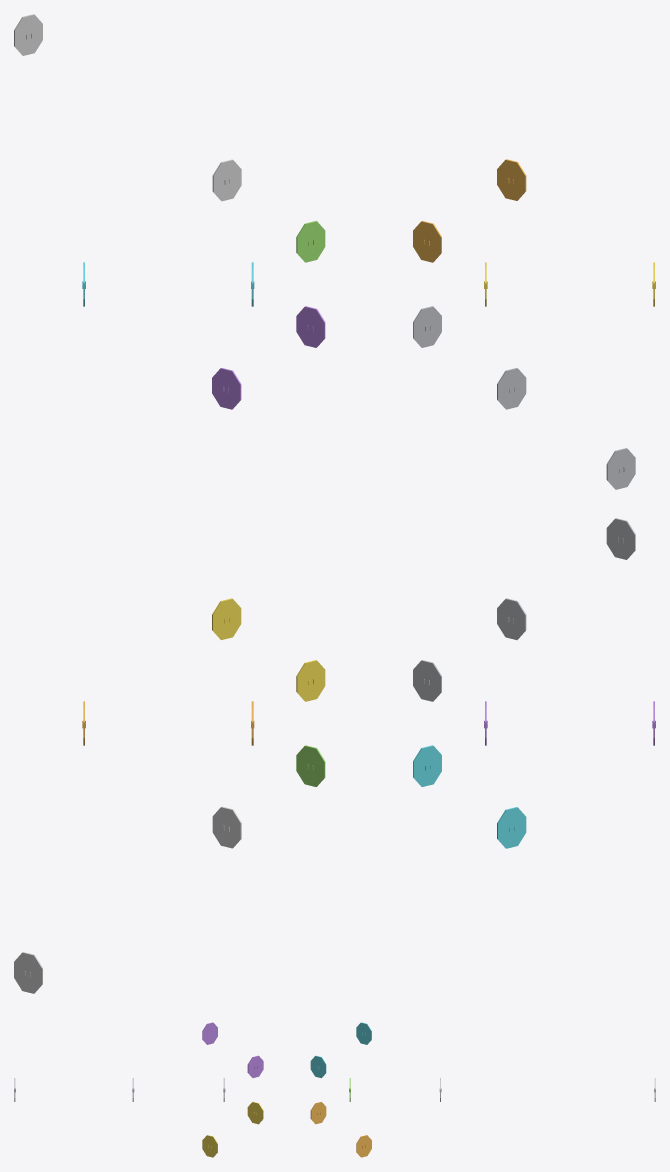
The model's file is base_portas.fbx.
The picture shows the model from 3 angles, top to bottom: view 1: azimuth 30°, elevation 25°; view 2: azimuth 150°, elevation 25°; view 3: azimuth 270°, elevation 25°; orthographic projection. The views are drawn at different scales.
Bounding box in the file's own units: 28.71 × 2.38 × 66.75.
